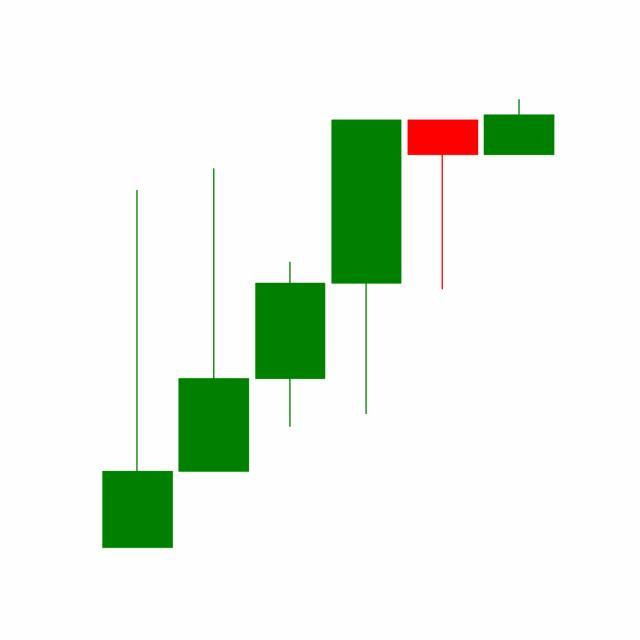Hanging Man: (404, 118, 482, 292)
